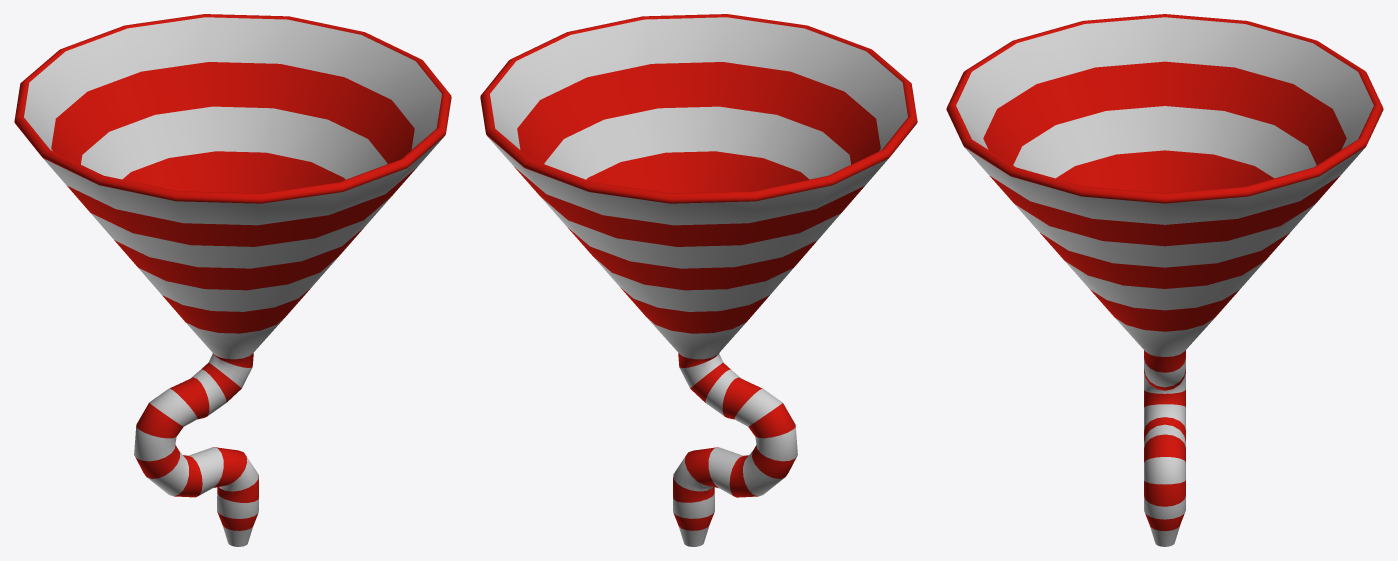
Rendered from ConeAnimate.fbx.
3 views of the same model, side by side, from view 1: azimuth 30°, elevation 25°; view 2: azimuth 150°, elevation 25°; view 3: azimuth 270°, elevation 25° (orthographic).
Visible parts, largest first — view 1: Cone; view 2: Cone; view 3: Cone.
Boxes of the visible parts, x1,y1,x2,y2 form: Cone: (14, 14, 451, 546); Cone: (480, 14, 917, 546); Cone: (946, 14, 1383, 546).
Size of the model in its own units: 1255 by 1382 by 1255.
